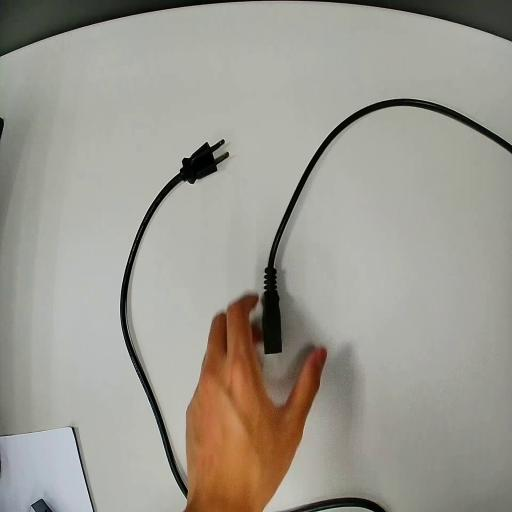wire: (251, 99, 511, 353), (121, 141, 227, 494)
